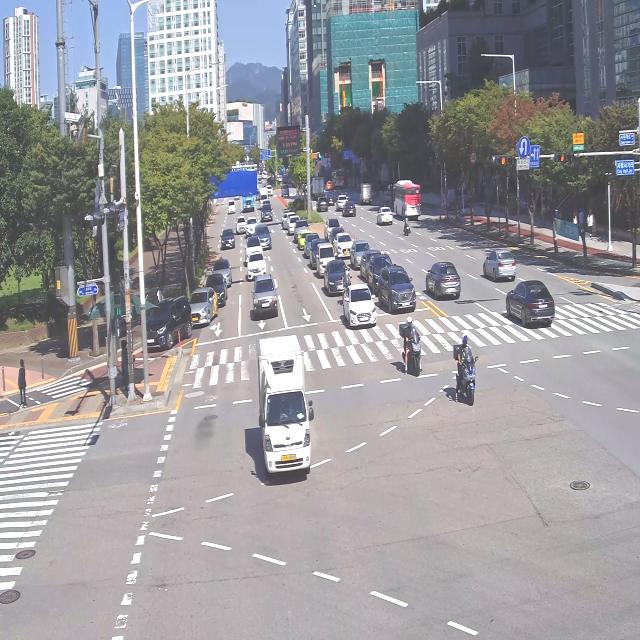Bus: (391, 168, 426, 220)
Car: (144, 282, 194, 359), (509, 267, 566, 332), (336, 278, 381, 337), (372, 254, 416, 312), (419, 248, 462, 301), (472, 235, 517, 284), (185, 280, 221, 336), (249, 274, 285, 322), (243, 248, 276, 284), (218, 221, 239, 251)
Motorcycle: (450, 329, 486, 422), (390, 313, 430, 384), (399, 205, 417, 247)
Truck: (250, 321, 324, 492)
